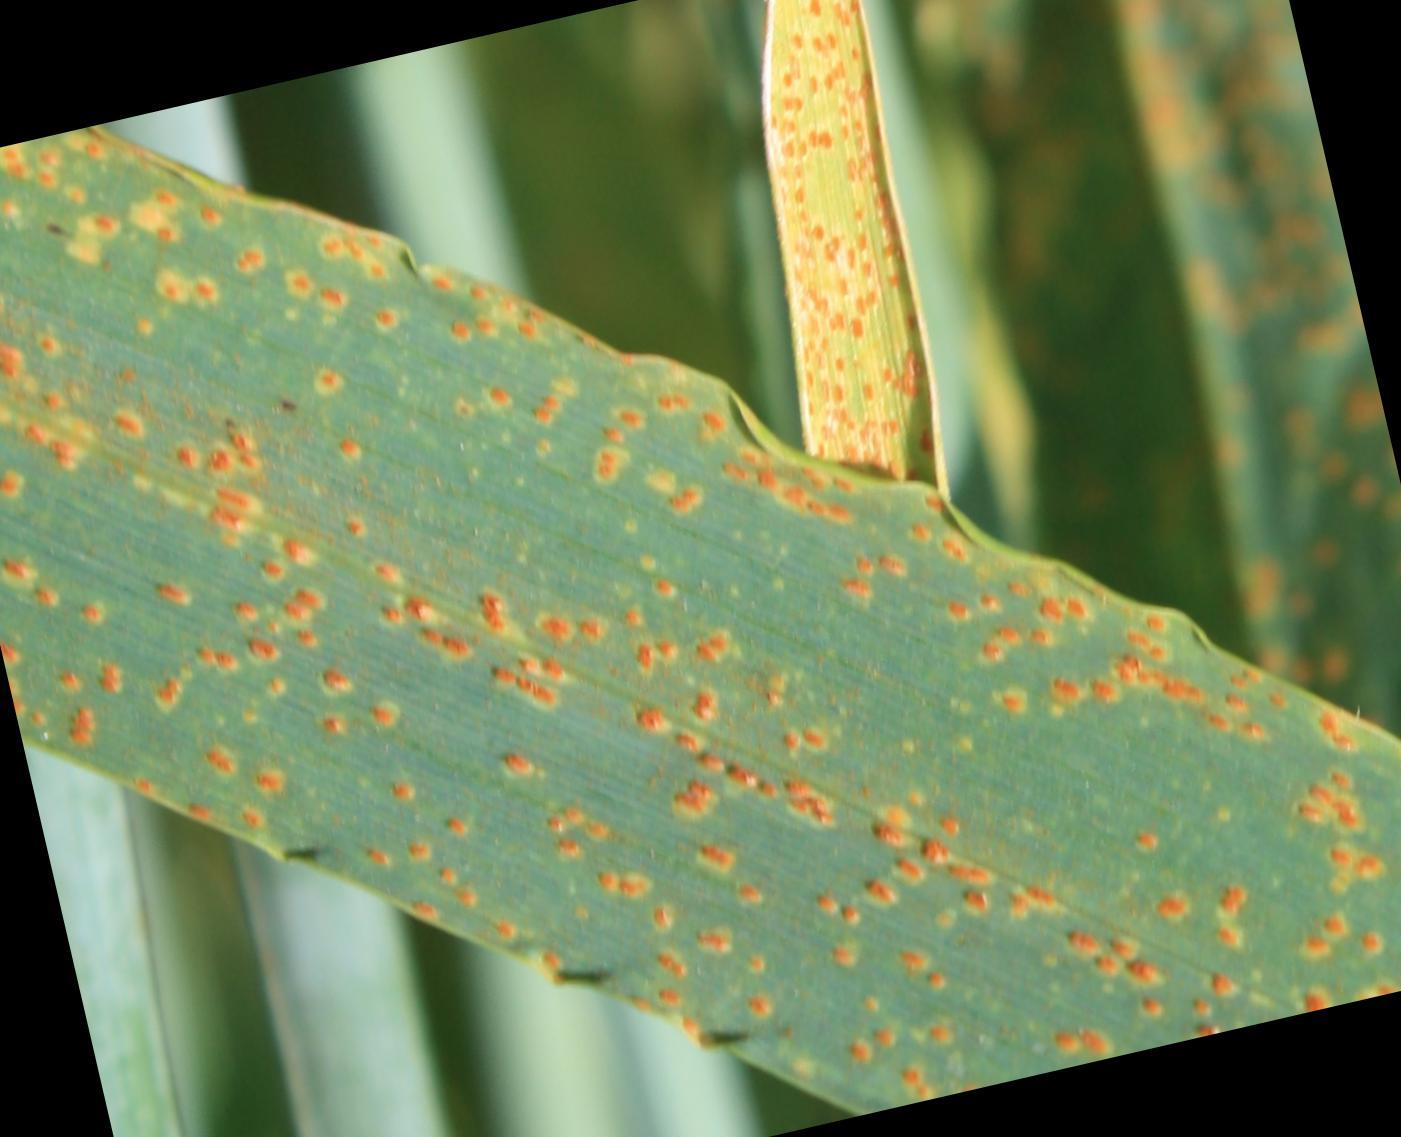Wheat: (12, 198, 644, 839), (568, 616, 1134, 956), (775, 20, 906, 469), (1200, 690, 1384, 984)
